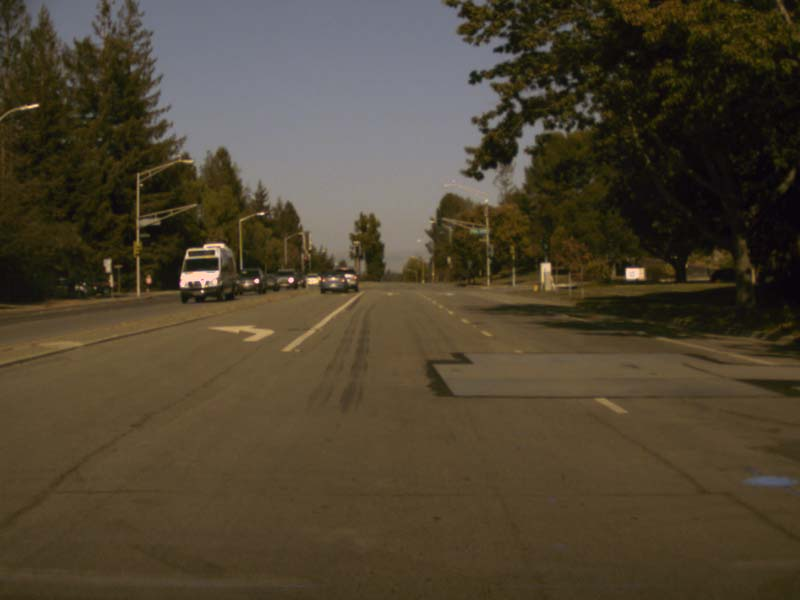Green: (542, 232, 552, 251), (436, 218, 442, 230)
